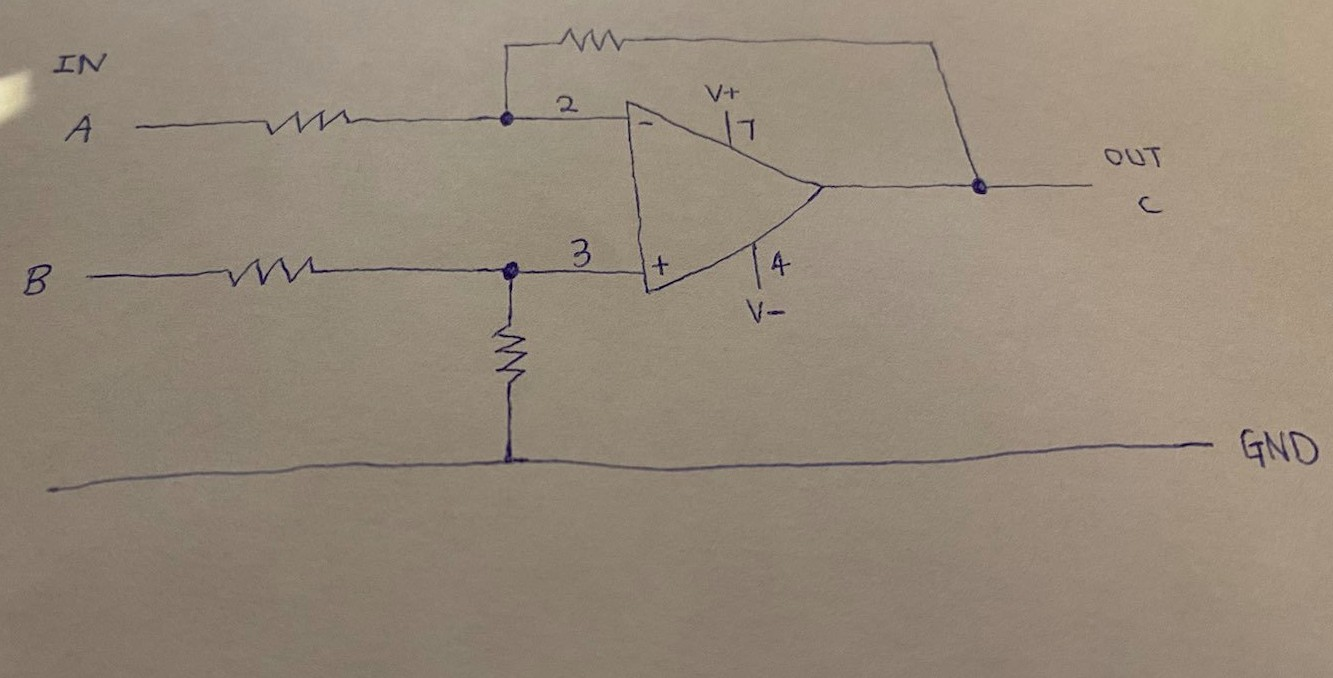junction: (951, 163, 1003, 216), (483, 438, 530, 479), (484, 100, 526, 138), (487, 255, 530, 290), (911, 26, 947, 60), (494, 34, 522, 62)
operational_amplifier: (615, 90, 843, 306)
resistor: (249, 104, 368, 141), (218, 254, 330, 292), (488, 316, 534, 393), (549, 21, 632, 58)
terminal: (40, 467, 96, 504), (1175, 430, 1228, 459), (124, 109, 168, 138), (71, 263, 121, 288), (1063, 175, 1104, 199)
text: (1234, 418, 1323, 480), (1098, 137, 1167, 174), (48, 47, 110, 80), (18, 258, 57, 300), (59, 112, 99, 150), (743, 296, 790, 326), (563, 232, 597, 268), (1133, 188, 1167, 221), (702, 76, 740, 104), (549, 88, 586, 115), (734, 110, 762, 143), (764, 247, 792, 278), (646, 251, 669, 277), (637, 115, 655, 136)
